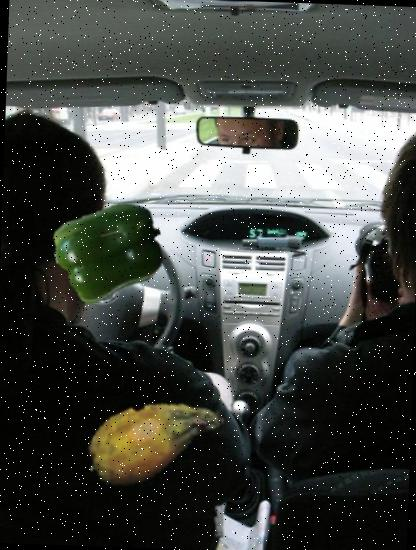Cactus: (81, 364, 229, 511)
Pepper: (54, 196, 166, 308)
